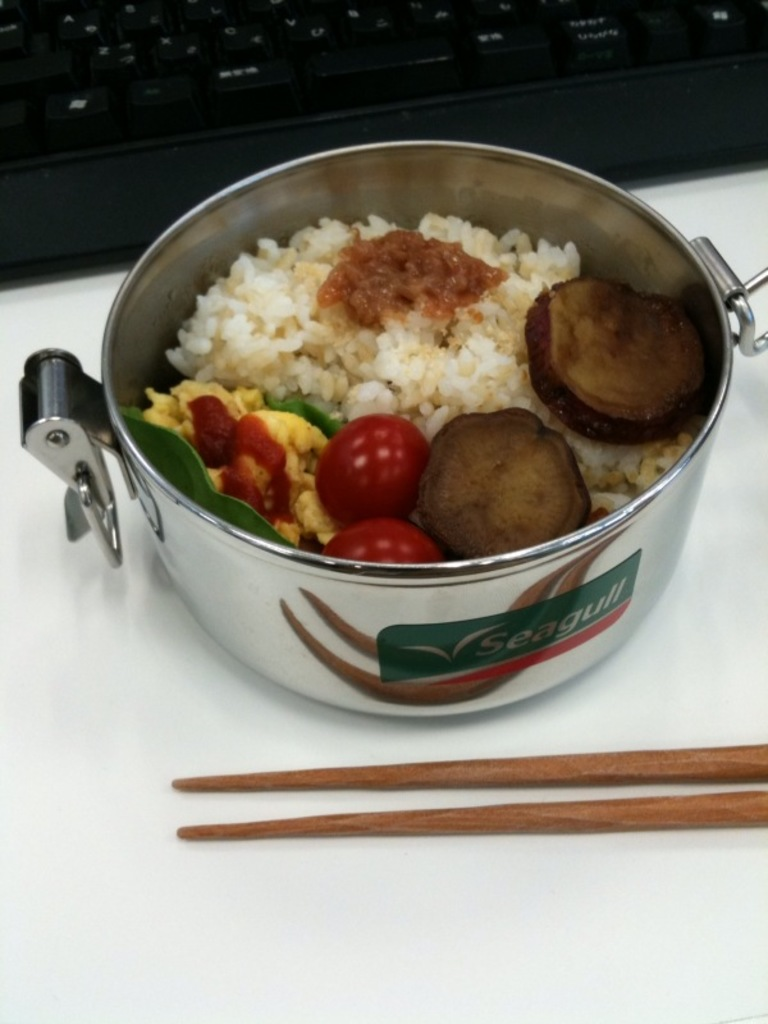Tomato: (309, 416, 433, 514), (322, 513, 447, 568)
